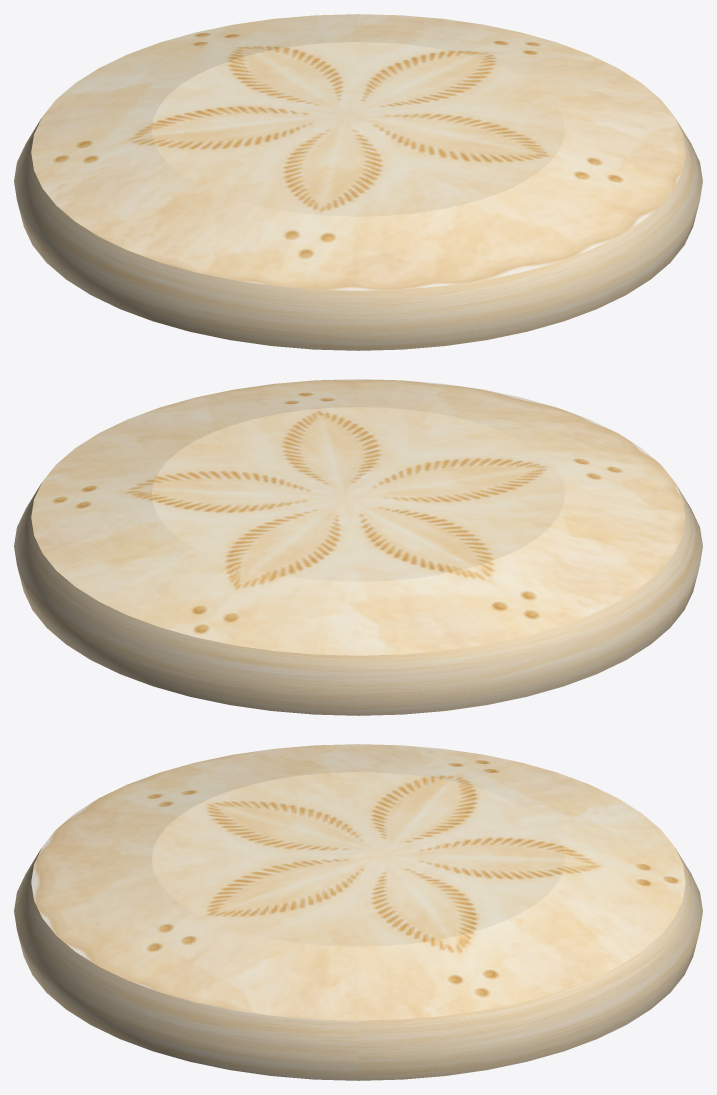
The model's file is sand_dollar-CcySQgDO.glb.
3 views of the same model, one above another, from view 1: azimuth 30°, elevation 25°; view 2: azimuth 150°, elevation 25°; view 3: azimuth 270°, elevation 25° (orthographic).
Visible parts, largest first — view 1: HI_sand_dollar; view 2: HI_sand_dollar; view 3: HI_sand_dollar.
Boxes of the visible parts, x1=… form: HI_sand_dollar: x1=14, y1=14, x2=702, y2=350; HI_sand_dollar: x1=14, y1=379, x2=702, y2=715; HI_sand_dollar: x1=14, y1=744, x2=702, y2=1080.
Bounding box in the file's own units: 0.52 × 0.08 × 0.52.
Materials: 1 (1 with a texture image).
